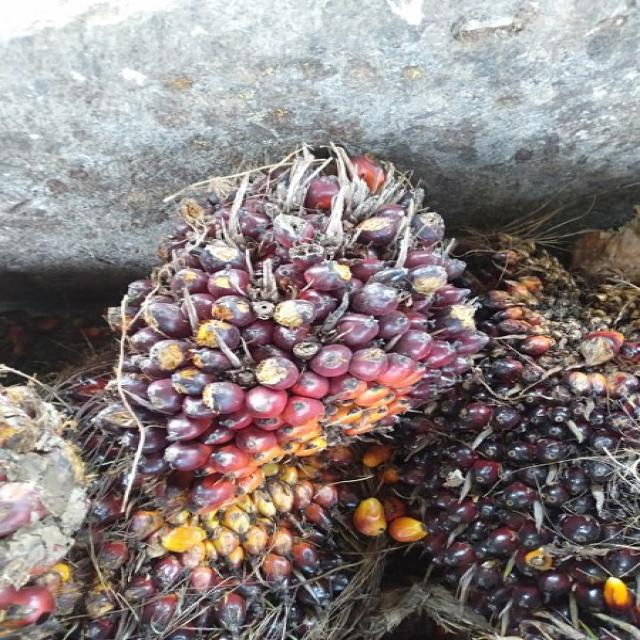fraksi 1: (53, 123, 526, 542)
